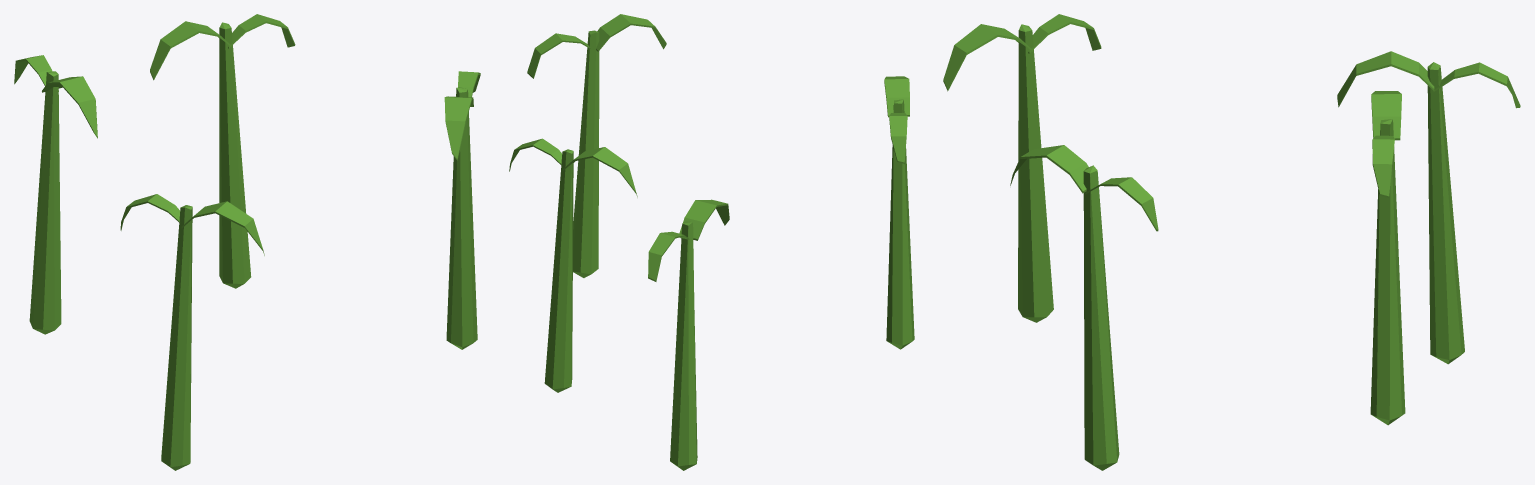
File: childcorn1.fbx
3 views of the same model, side by side, from view 1: azimuth 30°, elevation 25°; view 2: azimuth 150°, elevation 25°; view 3: azimuth 270°, elevation 25° (orthographic). The views are drawn at different scales.
Parts seen in each view (by area): view 1: childcorn1; view 2: childcorn1; view 3: childcorn1.
Part boxes in pixels (box(x1,y1,x2,y2)): childcorn1: box(14, 14, 480, 470); childcorn1: box(509, 14, 914, 470); childcorn1: box(943, 14, 1520, 470).
Bounding box in the file's own units: 177 × 136 × 206.
